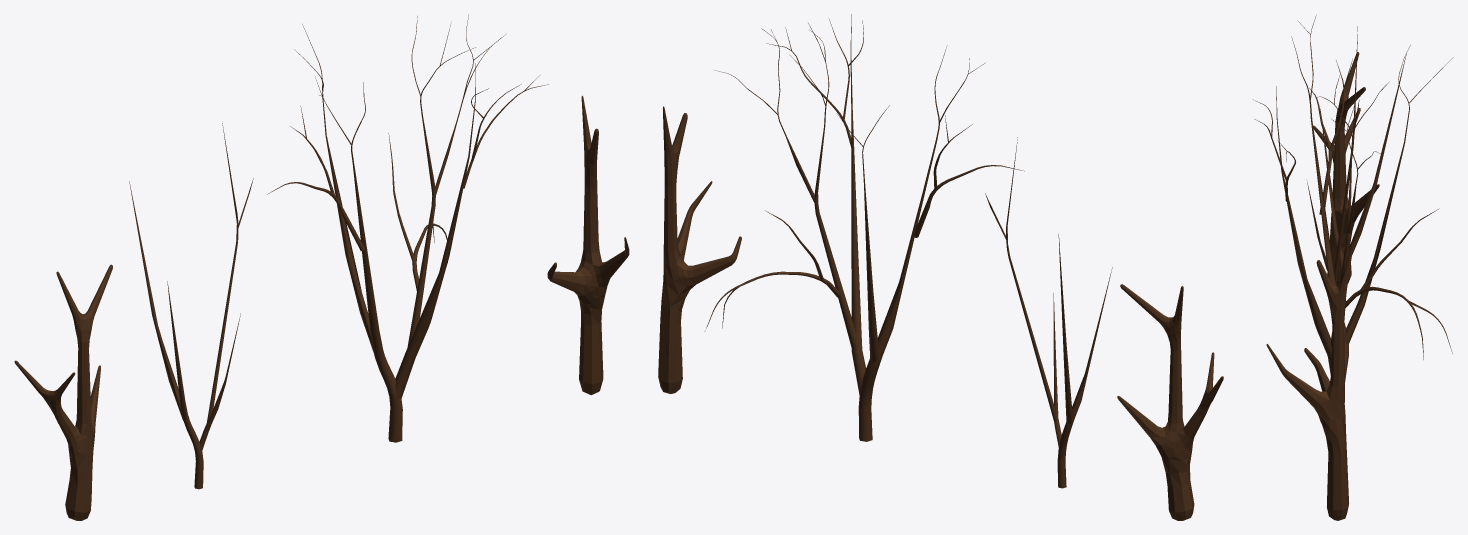
The model's file is Dead_trees.dae.
3 renders of one model, left to right at view 1: azimuth 30°, elevation 25°; view 2: azimuth 150°, elevation 25°; view 3: azimuth 270°, elevation 25°, orthographic. The views are drawn at different scales.
Parts seen in each view (by area): view 1: Tree3, Tree2, Tree4, tree; view 2: Tree3, Tree2, Tree4, tree; view 3: Tree3, Tree2, Tree4, tree.
Boxes of the visible parts, bbox=[...] form: Tree3: bbox=[267, 14, 548, 442]; Tree2: bbox=[547, 95, 629, 395]; Tree4: bbox=[14, 264, 112, 520]; tree: bbox=[129, 123, 253, 489]; Tree3: bbox=[704, 14, 1024, 441]; Tree2: bbox=[658, 106, 741, 393]; Tree4: bbox=[1117, 284, 1223, 520]; tree: bbox=[985, 137, 1112, 488]; Tree3: bbox=[1253, 15, 1453, 381]; Tree2: bbox=[1266, 244, 1353, 520]; Tree4: bbox=[1313, 52, 1379, 286]; tree: bbox=[1306, 26, 1406, 287].
Size of the model in its own units: 8.98 by 2.89 by 6.08.
